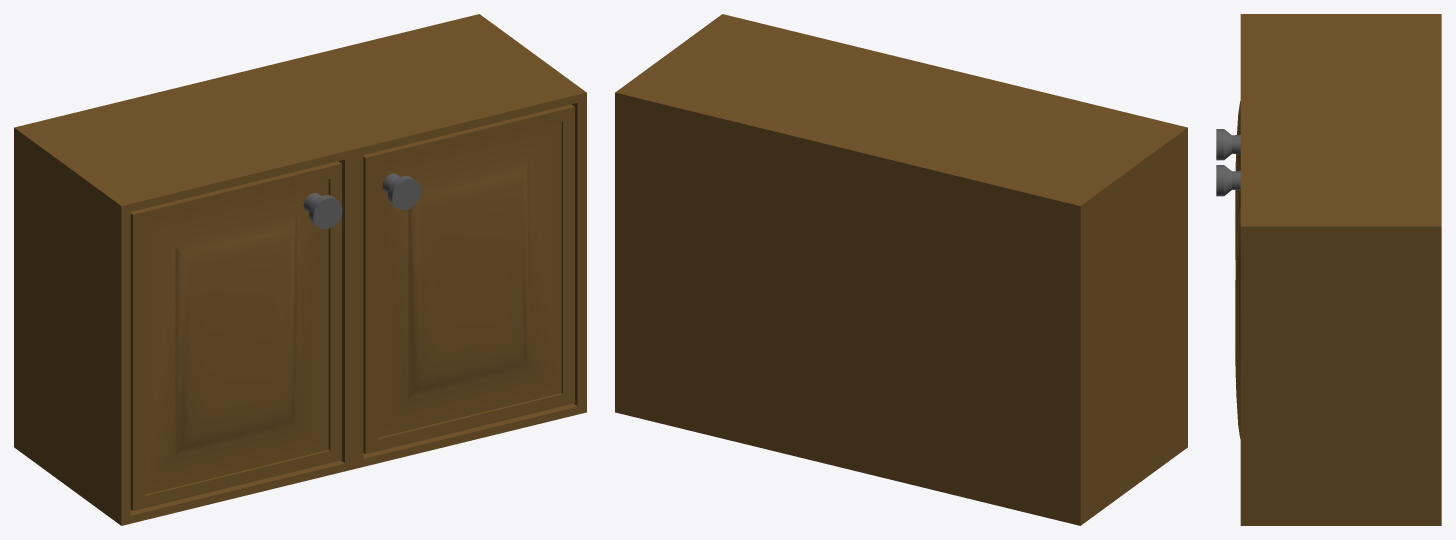
File: CupboardWithHandles.fbx
The picture shows the model from 3 angles, left to right: view 1: azimuth 30°, elevation 25°; view 2: azimuth 150°, elevation 25°; view 3: azimuth 270°, elevation 25°; orthographic projection. The views are drawn at different scales.
Visible parts, largest first — view 1: Cube.003; view 2: Cube.003; view 3: Cube.003.
Part boxes in pixels (x1,y1,x2,y2): Cube.003: (14,14,586,525); Cube.003: (615,14,1187,525); Cube.003: (1216,14,1441,525).
Size of the model in its own units: 353 by 158 by 232.
